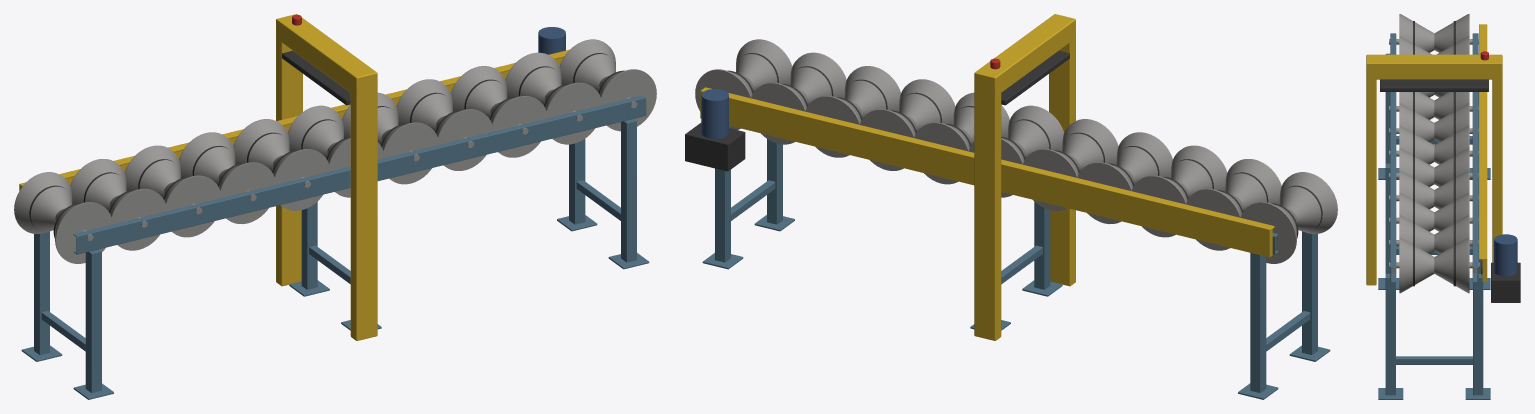
File: debarker_outfeed.glb
The picture shows the model from 3 angles, left to right: view 1: azimuth 30°, elevation 25°; view 2: azimuth 150°, elevation 25°; view 3: azimuth 270°, elevation 25°; orthographic projection. The views are drawn at different scales.
Visible parts, largest first — view 1: OUTFrame, OUT_MetalDetector, OUT_Roll0Mesh, OUT_Roll10Mesh, OUT_Roll2Mesh, OUT_Roll7Mesh, OUT_Roll1Mesh, OUT_Roll3Mesh, OUT_Roll9Mesh, OUT_Roll4Mesh, OUT_Roll8Mesh, OUT_Roll5Mesh (+1 smaller); view 2: OUTFrame, OUT_MetalDetector, OUT_Roll0Mesh, OUT_Roll2Mesh, OUT_Roll4Mesh, OUT_Roll7Mesh, OUT_Roll3Mesh, OUT_Roll9Mesh, OUT_Roll1Mesh, OUT_Roll8Mesh, OUT_Roll10Mesh, OUT_Roll5Mesh (+1 smaller); view 3: OUTFrame, OUT_MetalDetector, OUT_Roll10Mesh, OUT_Roll8Mesh, OUT_Roll5Mesh, OUT_Roll7Mesh, OUT_Roll4Mesh, OUT_Roll0Mesh, OUT_Roll6Mesh, OUT_Roll9Mesh, OUT_Roll3Mesh, OUT_Roll1Mesh.
Part boxes in pixels (left/top/right/bottom): OUTFrame: left=19, top=27, right=649, bottom=399; OUT_MetalDetector: left=276, top=14, right=377, bottom=340; OUT_Roll0Mesh: left=14, top=172, right=112, bottom=263; OUT_Roll10Mesh: left=559, top=39, right=656, bottom=131; OUT_Roll2Mesh: left=124, top=145, right=221, bottom=237; OUT_Roll7Mesh: left=396, top=79, right=493, bottom=170; OUT_Roll1Mesh: left=70, top=159, right=167, bottom=250; OUT_Roll3Mesh: left=179, top=132, right=275, bottom=223; OUT_Roll9Mesh: left=505, top=52, right=602, bottom=144; OUT_Roll4Mesh: left=233, top=119, right=329, bottom=210; OUT_Roll8Mesh: left=451, top=66, right=547, bottom=157; OUT_Roll5Mesh: left=288, top=105, right=384, bottom=197; OUTFrame: left=685, top=87, right=1330, bottom=399; OUT_MetalDetector: left=974, top=14, right=1075, bottom=340; OUT_Roll0Mesh: left=1240, top=172, right=1337, bottom=263; OUT_Roll2Mesh: left=1131, top=145, right=1227, bottom=237; OUT_Roll4Mesh: left=1023, top=119, right=1118, bottom=210; OUT_Roll7Mesh: left=859, top=79, right=955, bottom=170; OUT_Roll3Mesh: left=1077, top=132, right=1172, bottom=223; OUT_Roll9Mesh: left=751, top=52, right=846, bottom=144; OUT_Roll1Mesh: left=1186, top=159, right=1281, bottom=250; OUT_Roll8Mesh: left=805, top=66, right=900, bottom=157; OUT_Roll10Mesh: left=695, top=39, right=792, bottom=129; OUT_Roll5Mesh: left=968, top=105, right=1064, bottom=197; OUTFrame: left=1378, top=24, right=1520, bottom=399; OUT_MetalDetector: left=1366, top=51, right=1502, bottom=285; OUT_Roll10Mesh: left=1389, top=237, right=1482, bottom=293; OUT_Roll8Mesh: left=1389, top=193, right=1478, bottom=231; OUT_Roll5Mesh: left=1389, top=125, right=1478, bottom=164; OUT_Roll7Mesh: left=1389, top=170, right=1478, bottom=209; OUT_Roll4Mesh: left=1389, top=103, right=1478, bottom=142; OUT_Roll0Mesh: left=1389, top=14, right=1478, bottom=52; OUT_Roll6Mesh: left=1389, top=148, right=1478, bottom=186; OUT_Roll9Mesh: left=1389, top=215, right=1478, bottom=253; OUT_Roll3Mesh: left=1389, top=92, right=1478, bottom=119; OUT_Roll1Mesh: left=1399, top=36, right=1469, bottom=54.
Bounding box in the file's own units: 6.96 × 3 × 1.83.
